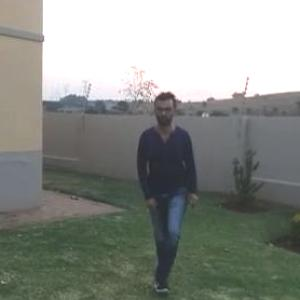follow: (133, 85, 197, 296)
